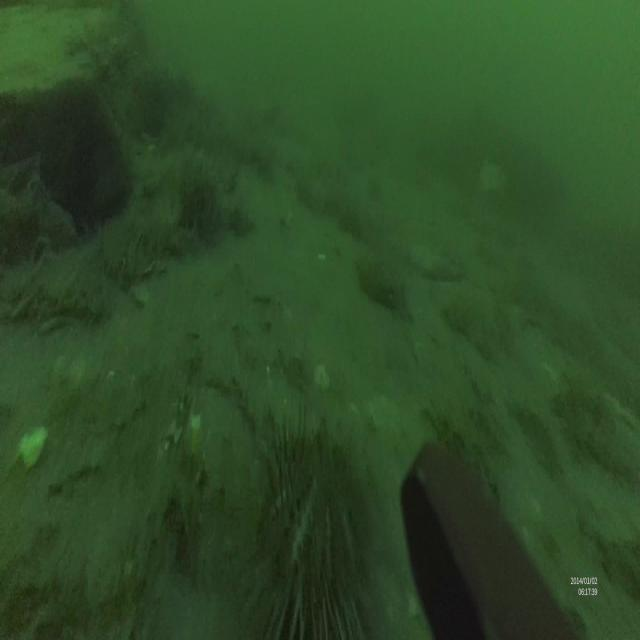echinus: (245, 413, 371, 640)
holothurian: (10, 275, 111, 330), (95, 242, 170, 288), (136, 215, 207, 258)
